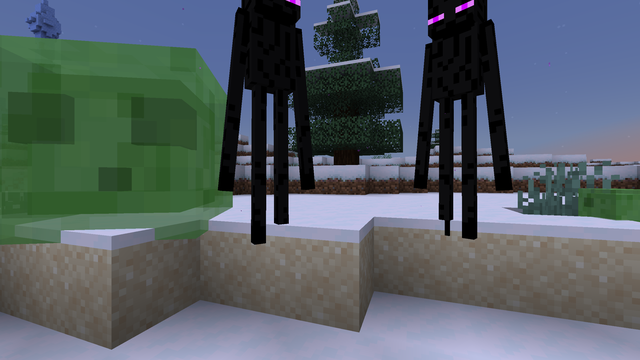endermens: (230, 18, 305, 243), (429, 0, 493, 238)
slimes: (13, 10, 202, 251), (578, 186, 637, 229)
